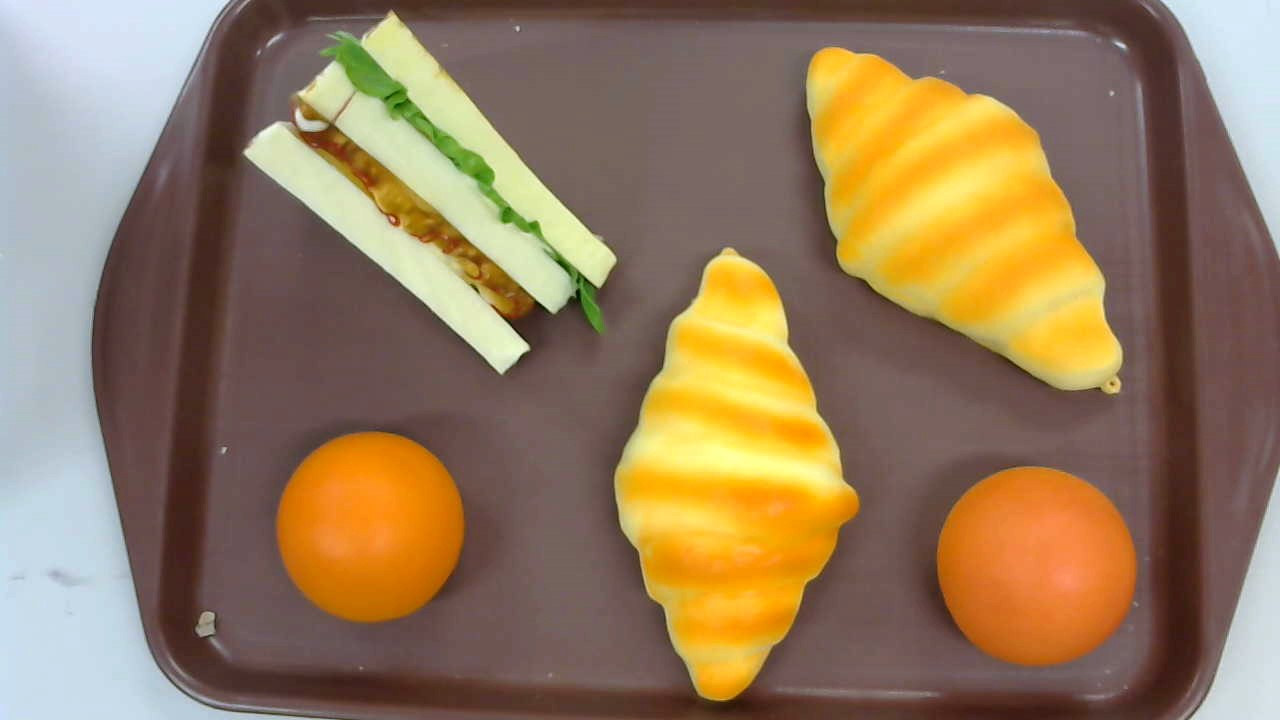bun: (935, 465, 1135, 667), (276, 429, 465, 624)
croissant: (805, 46, 1124, 397), (613, 247, 858, 703)
sandwich: (243, 9, 616, 374)
